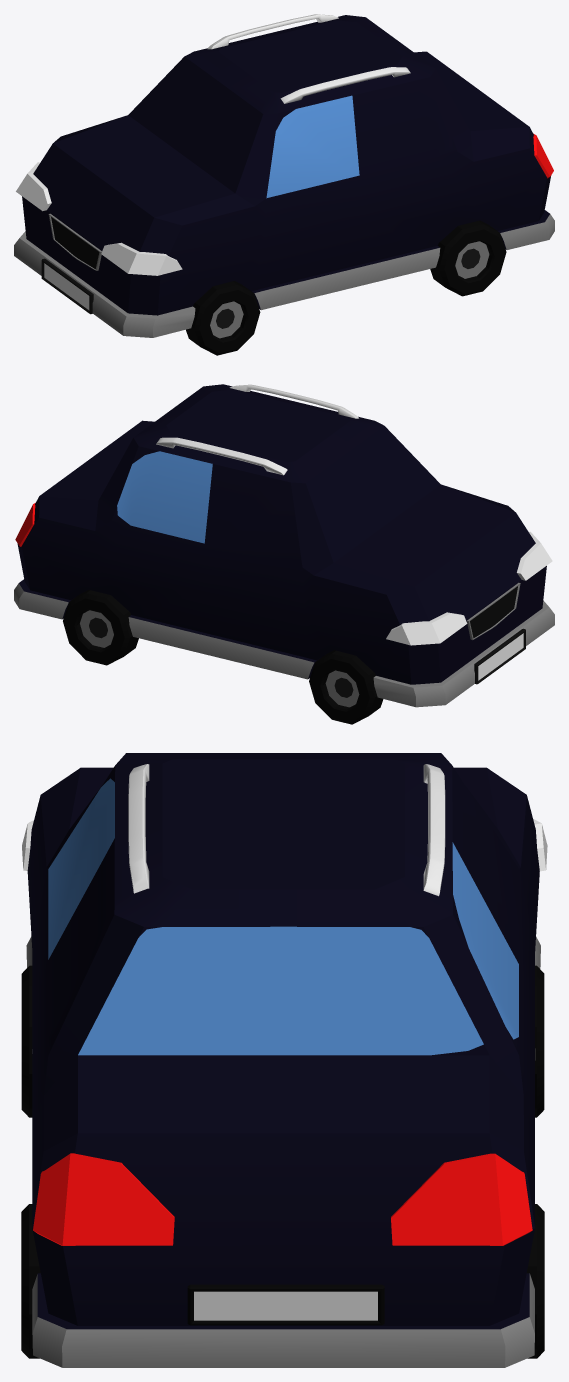
Rendered from VehiculoCoche.FBX.
The picture shows the model from 3 angles, top to bottom: view 1: azimuth 30°, elevation 25°; view 2: azimuth 150°, elevation 25°; view 3: azimuth 270°, elevation 25°; orthographic projection. The views are drawn at different scales.
Visible parts, largest first — view 1: Vehiculo007, Cylinder008, Foco009, RadiadorCoche004, MatriculaDelantera004, Box013, Box012; view 2: Vehiculo007, Cylinder008, Foco009, RadiadorCoche004, Box012, MatriculaDelantera004, Box013; view 3: Vehiculo007, FocoTrasero005, MatriculaTrasera004, Cylinder008, Box012, Box013, Foco009.
Boxes of the visible parts, left/top/right/bottom form: Vehiculo007: left=14, top=15, right=554, bottom=337; Cylinder008: left=186, top=220, right=506, bottom=355; Foco009: left=16, top=162, right=182, bottom=275; RadiadorCoche004: left=48, top=213, right=101, bottom=270; MatriculaDelantera004: left=41, top=258, right=93, bottom=314; Box013: left=280, top=67, right=410, bottom=103; Box012: left=207, top=14, right=338, bottom=49; Vehiculo007: left=14, top=384, right=554, bottom=707; Cylinder008: left=63, top=590, right=383, bottom=724; Foco009: left=386, top=531, right=552, bottom=645; RadiadorCoche004: left=467, top=582, right=520, bottom=639; Box012: left=156, top=437, right=287, bottom=475; MatriculaDelantera004: left=474, top=628, right=525, bottom=684; Box013: left=229, top=384, right=358, bottom=418; Vehiculo007: left=26, top=753, right=540, bottom=1367; FocoTrasero005: left=33, top=1153, right=532, bottom=1245; MatriculaTrasera004: left=187, top=1284, right=384, bottom=1325; Cylinder008: left=21, top=965, right=544, bottom=1358; Box012: left=423, top=764, right=445, bottom=896; Box013: left=128, top=764, right=149, bottom=893; Foco009: left=22, top=819, right=547, bottom=871.
Size of the model in its own units: 151 by 73.05 by 79.18.
